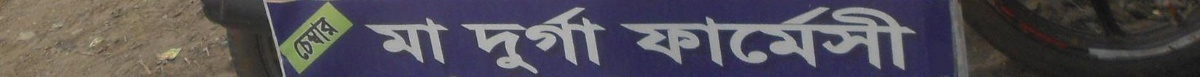text: (625, 3, 640, 75), (641, 3, 656, 75), (657, 3, 672, 75), (673, 3, 688, 75), (689, 3, 704, 75), (705, 3, 720, 75), (721, 3, 736, 75), (737, 3, 752, 75), (753, 3, 768, 75), (769, 3, 784, 75), (785, 3, 800, 75), (801, 3, 816, 75), (817, 3, 832, 75), (833, 3, 848, 75), (849, 3, 864, 75), (865, 3, 880, 75), (881, 3, 896, 75), (897, 3, 912, 75), (465, 5, 480, 75), (481, 5, 496, 75), (497, 5, 512, 75), (513, 5, 528, 75), (529, 5, 544, 75), (545, 5, 560, 75), (561, 5, 576, 75), (577, 5, 592, 75), (593, 5, 607, 75), (289, 8, 304, 64), (305, 8, 320, 64), (321, 8, 336, 64), (369, 14, 384, 67), (385, 14, 400, 67), (401, 14, 416, 67), (417, 14, 432, 67), (433, 14, 448, 67), (616, 3, 624, 75), (913, 3, 919, 75), (362, 14, 368, 67), (460, 5, 464, 75), (337, 8, 341, 64), (449, 14, 451, 67), (287, 8, 288, 64)
